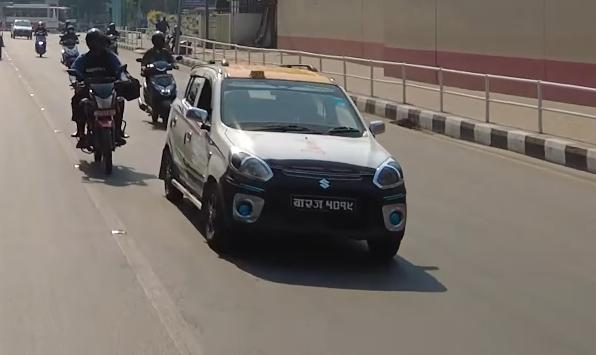bike: (64, 62, 130, 177)
bus: (5, 2, 76, 34)
scooter: (134, 53, 177, 130), (55, 32, 85, 70), (30, 28, 52, 59)
taxi: (157, 59, 413, 272)
